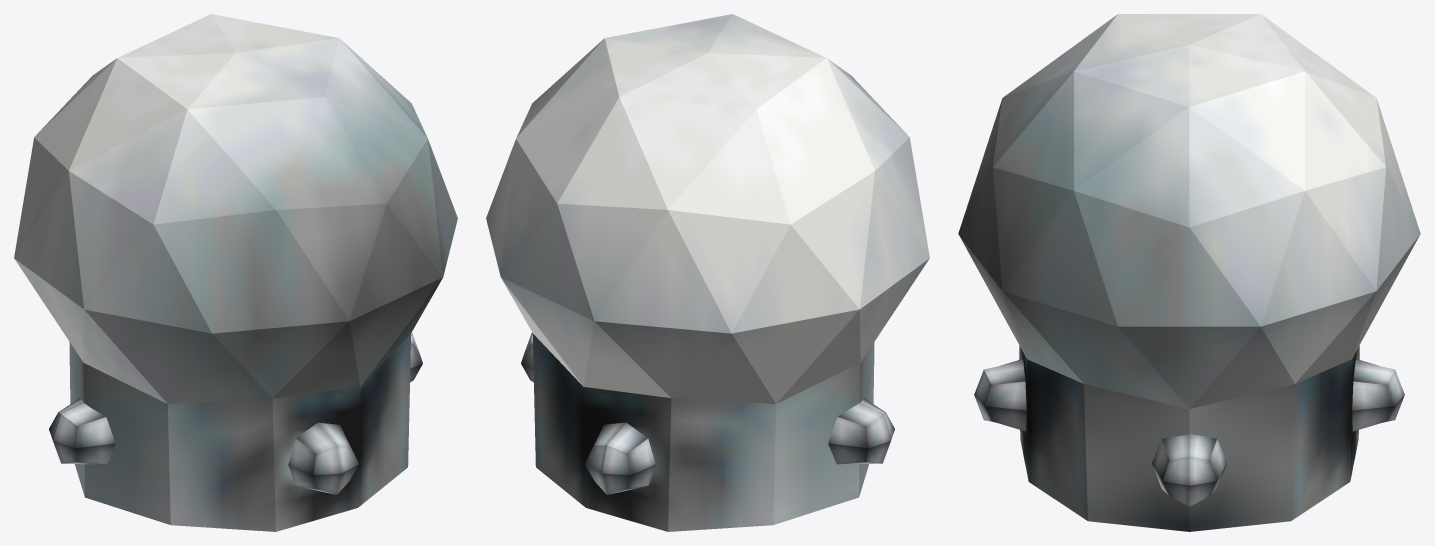
File: Poly_Mooring_Pole_03_Snow.obj
3 views of the same model, side by side, from view 1: azimuth 30°, elevation 25°; view 2: azimuth 150°, elevation 25°; view 3: azimuth 270°, elevation 25° (orthographic).
Parts seen in each view (by area): view 1: Icosphere, Icosphere.002, Icosphere.001; view 2: Icosphere, Icosphere.002, Icosphere.001; view 3: Icosphere, Icosphere.002, Icosphere.001.
Boxes of the visible parts, <box> form: Icosphere: <box>14,14,457,531</box>; Icosphere.002: <box>288,422,358,494</box>; Icosphere.001: <box>49,332,422,464</box>; Icosphere: <box>486,14,929,531</box>; Icosphere.002: <box>585,422,655,494</box>; Icosphere.001: <box>521,332,894,464</box>; Icosphere: <box>958,14,1420,531</box>; Icosphere.002: <box>974,359,1404,431</box>; Icosphere.001: <box>1152,434,1226,506</box>.
Size of the model in its own units: 0.5197 by 0.5417 by 0.5464.
1 material, 1 textured.
